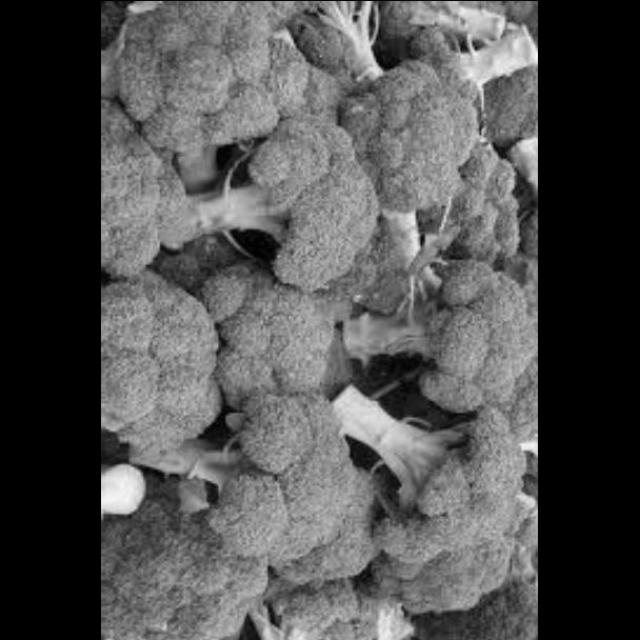broccoli: (102, 1, 536, 631)
